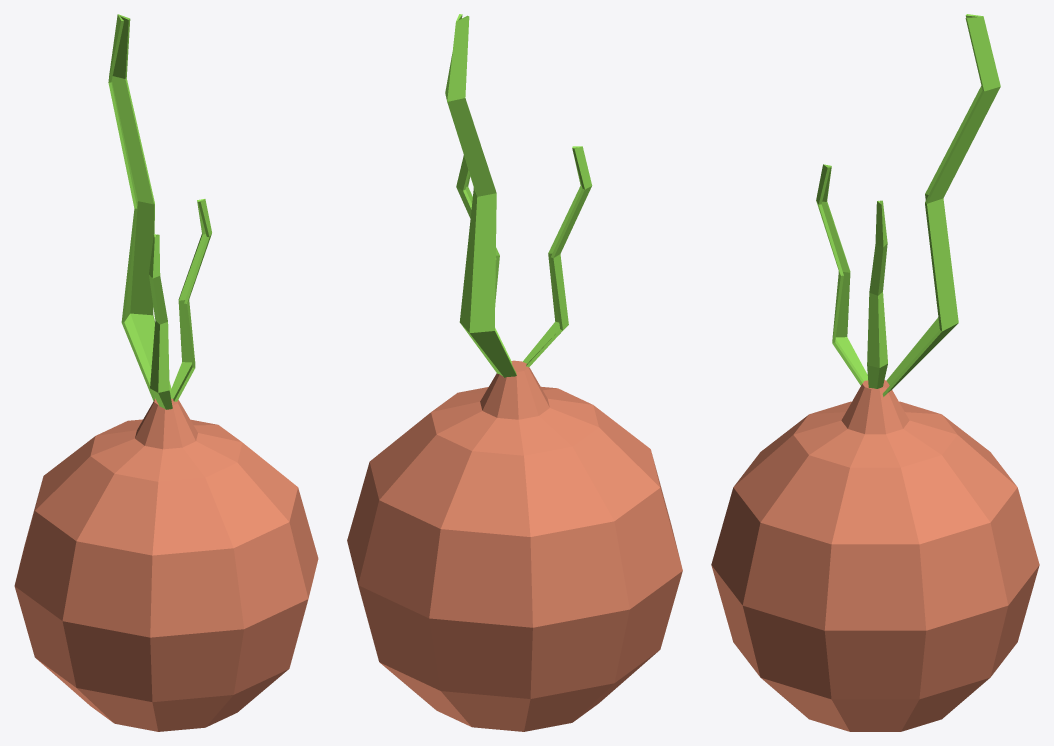
Rendered from fruit19.fbx.
3 views of the same model, side by side, from view 1: azimuth 30°, elevation 25°; view 2: azimuth 150°, elevation 25°; view 3: azimuth 270°, elevation 25° (orthographic). The views are drawn at different scales.
Visible parts, largest first — view 1: Plane.005; view 2: Plane.005; view 3: Plane.005.
Part boxes in pixels (x1=…): Plane.005: x1=14, y1=14, x2=318, y2=731; Plane.005: x1=347, y1=14, x2=682, y2=731; Plane.005: x1=711, y1=14, x2=1039, y2=731.
Bounding box in the file's own units: 5.67 × 14.12 × 5.96.
